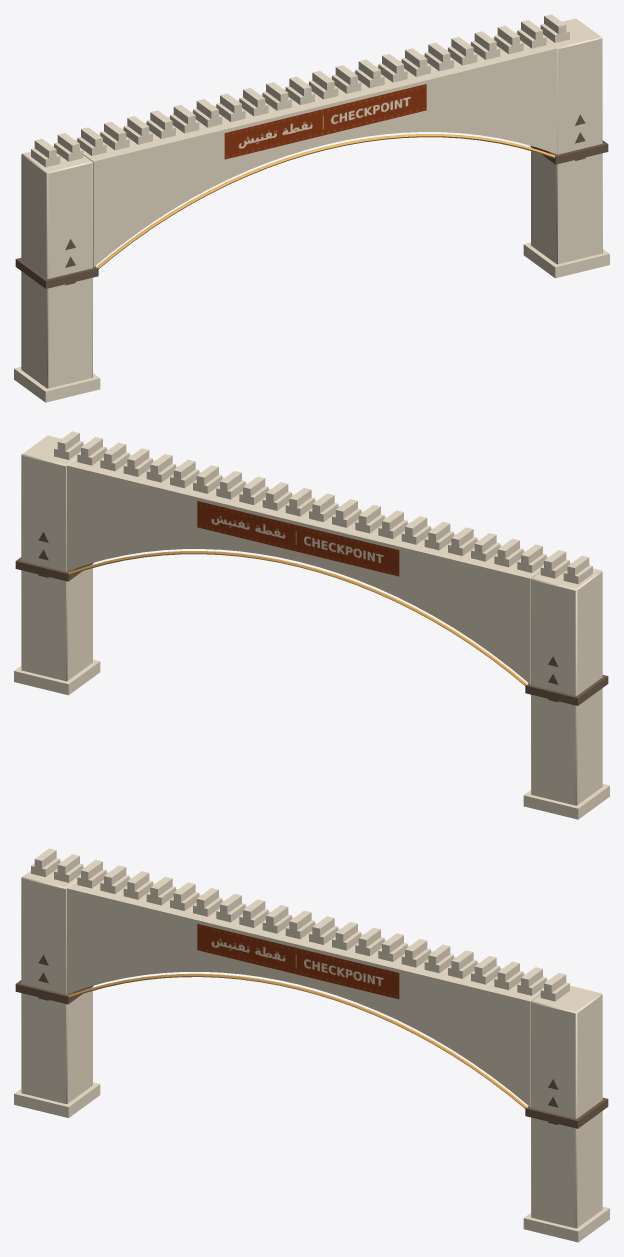
The model's file is SM_Checkpoint_Arch.fbx.
3 renders of one model, top to bottom at view 1: azimuth 30°, elevation 25°; view 2: azimuth 150°, elevation 25°; view 3: azimuth 330°, elevation 25°, orthographic.
Parts seen in each view (by area): view 1: SM_Checkpoint_Arch; view 2: SM_Checkpoint_Arch; view 3: SM_Checkpoint_Arch.
Part boxes in pixels (x1,y1,x2,y2): SM_Checkpoint_Arch: [14, 14, 609, 402]; SM_Checkpoint_Arch: [14, 431, 609, 819]; SM_Checkpoint_Arch: [14, 848, 609, 1242].
Size of the model in its own units: 2680 by 1100 by 260.
